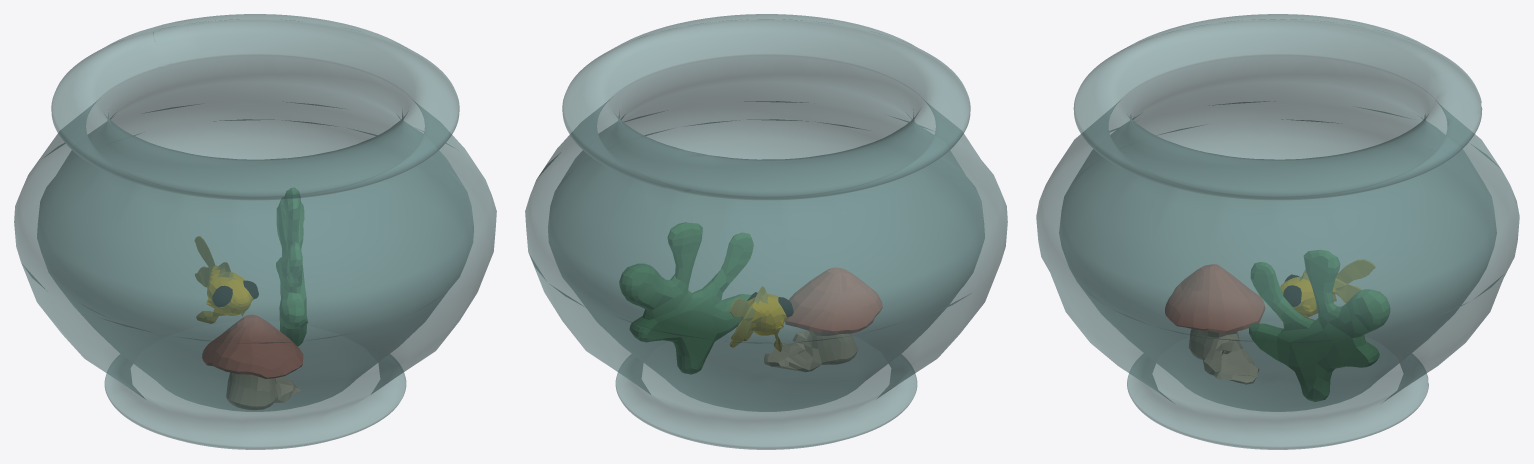
File: GoldfishForSketchFab.fbx
The picture shows the model from 3 angles, left to right: view 1: azimuth 30°, elevation 25°; view 2: azimuth 150°, elevation 25°; view 3: azimuth 270°, elevation 25°; orthographic projection.
Parts seen in each view (by area): view 1: revolvedSurface1, MushroomCastle, Coral1, GOldFish; view 2: revolvedSurface1, Coral1, MushroomCastle, GOldFish; view 3: revolvedSurface1, Coral1, MushroomCastle, GOldFish.
Boxes of the visible parts, x1,y1,x2,y2 form: revolvedSurface1: (14, 14, 496, 449); MushroomCastle: (202, 315, 302, 410); Coral1: (276, 188, 307, 345); GOldFish: (194, 236, 258, 323); revolvedSurface1: (525, 14, 1007, 449); Coral1: (619, 222, 753, 374); MushroomCastle: (764, 268, 882, 371); GOldFish: (729, 286, 793, 351); revolvedSurface1: (1036, 14, 1519, 449); Coral1: (1249, 250, 1389, 401); MushroomCastle: (1165, 264, 1264, 384); GOldFish: (1280, 259, 1375, 319).
Bounding box in the file's own units: 17.72 × 12.47 × 17.73.
